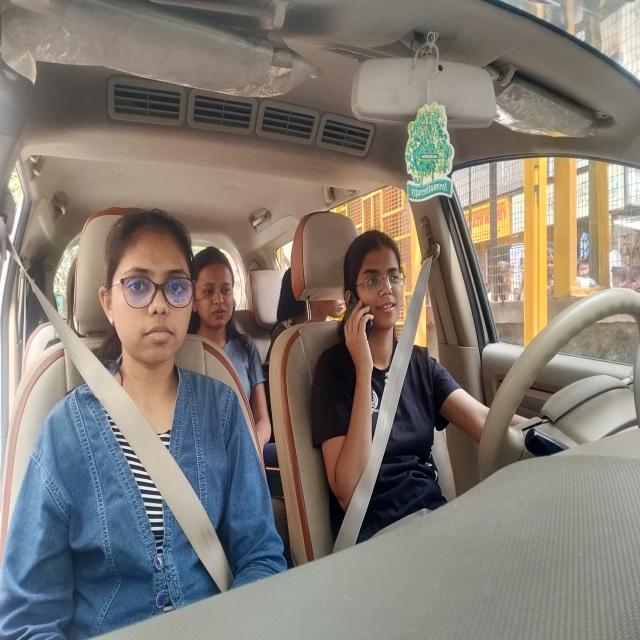mobile: (341, 282, 376, 356)
person: (92, 198, 200, 389), (335, 218, 418, 372), (190, 231, 242, 354)
